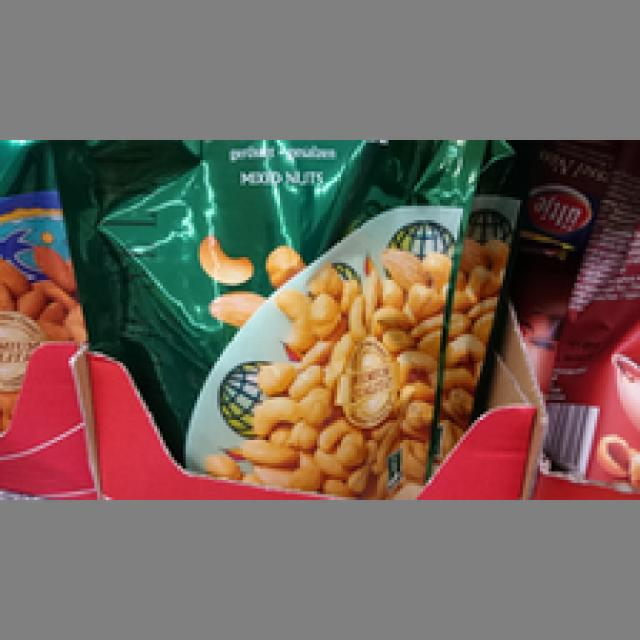groceries: (46, 140, 486, 494)
